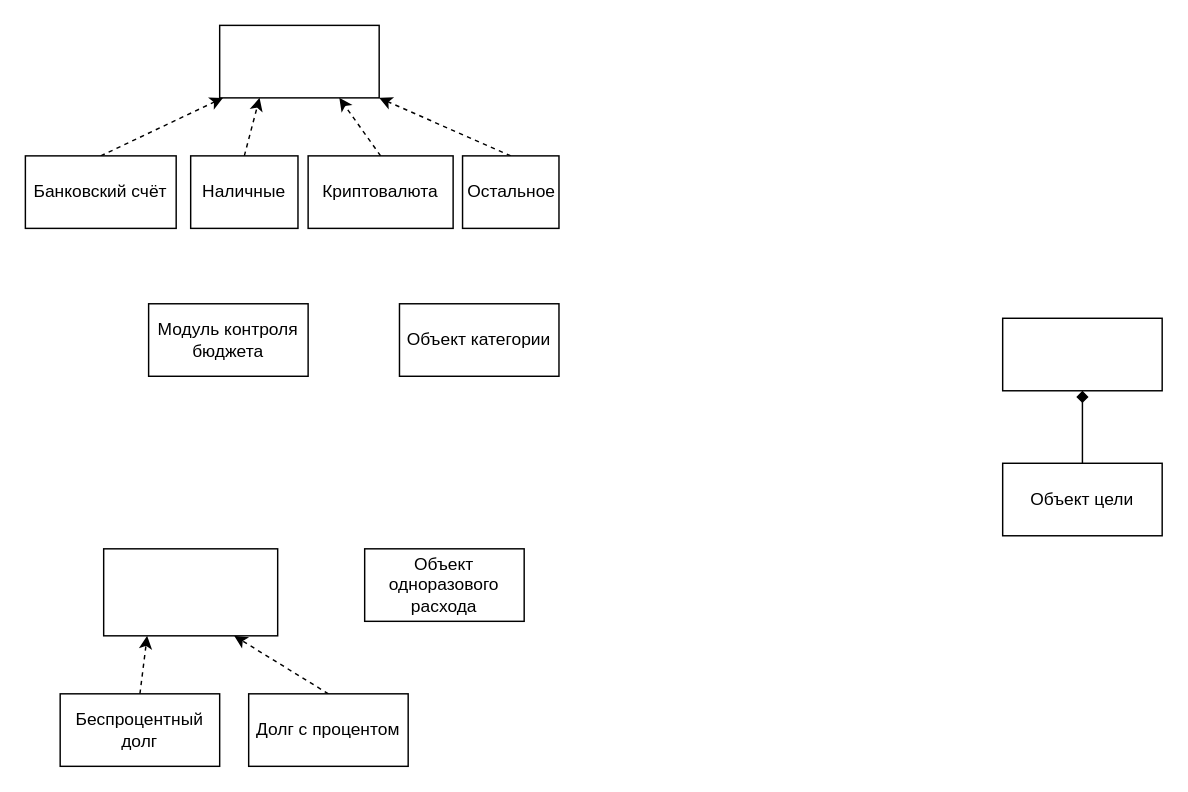
This 1188x792 diagram has some shape labels left out. The centre of each missing label's shape, as x and y in pixels:
"Интерфейс счёта" goes at pixel 298 61.
"Интерфейс универсального постоянного расхода" goes at pixel 190 591.
"Модуль целей" goes at pixel 1081 354.
